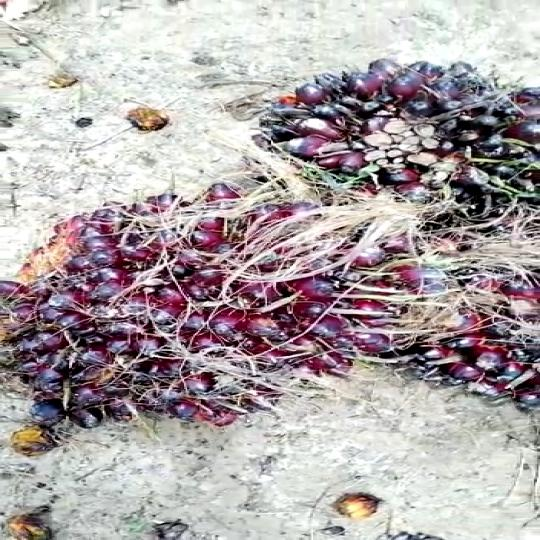kurang masak: (0, 187, 437, 428), (265, 60, 540, 249)
